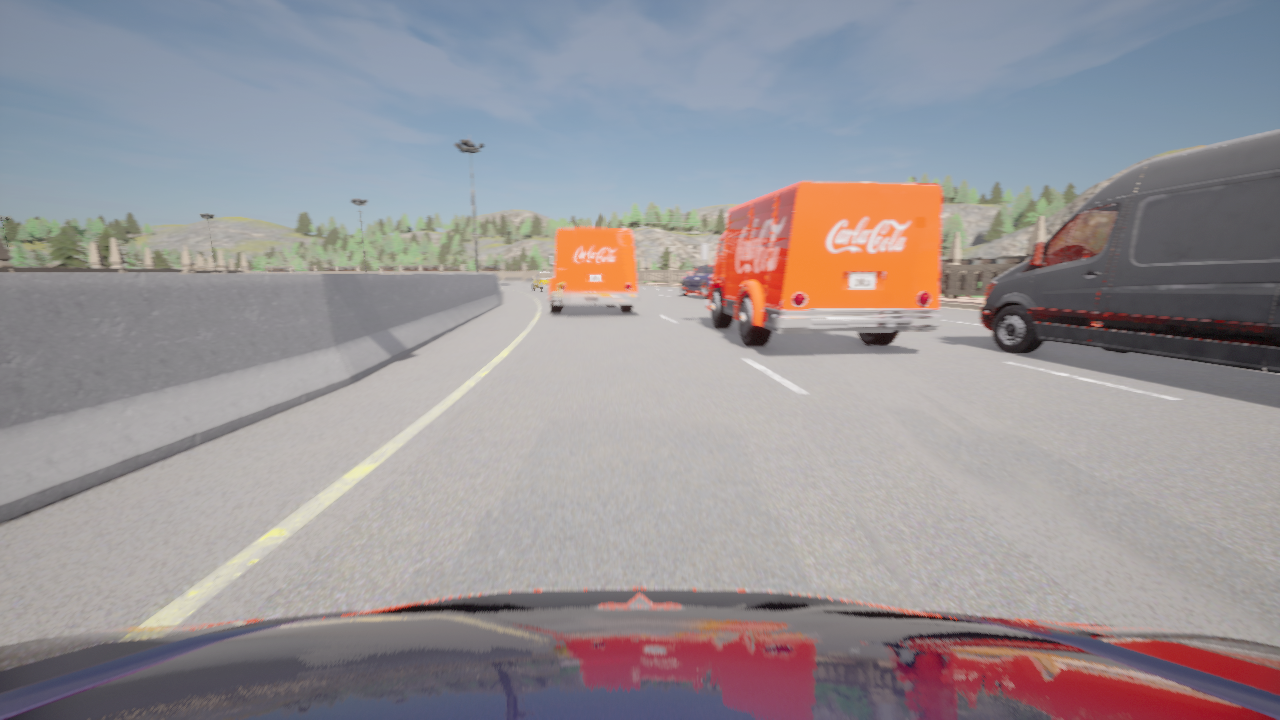cyclist: (0, 588, 1279, 719), (980, 130, 1279, 373), (700, 181, 942, 346), (547, 228, 639, 313), (680, 263, 714, 298), (532, 271, 553, 291)
